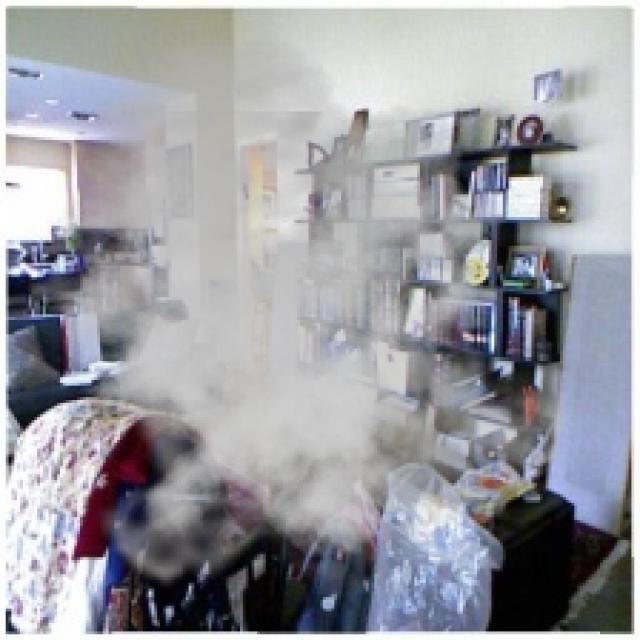smoke: (6, 34, 566, 594)
